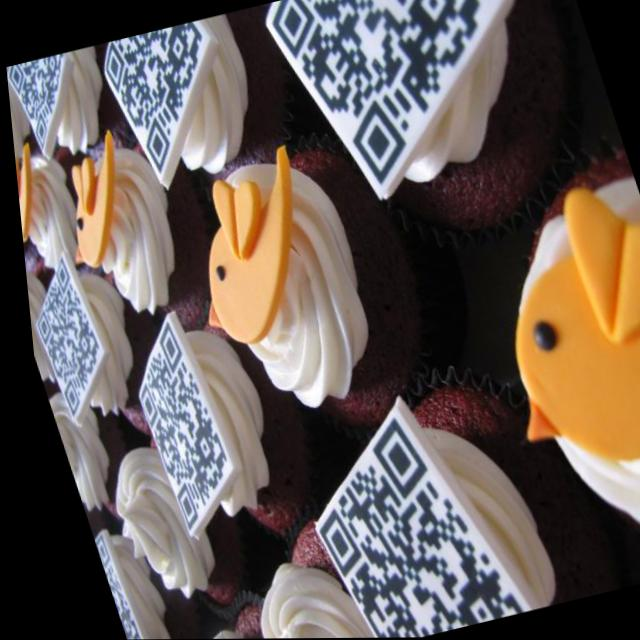qrcode: (279, 401, 515, 640), (265, 1, 545, 198), (111, 317, 238, 534), (95, 20, 241, 179), (20, 254, 111, 417), (5, 53, 88, 152), (82, 532, 132, 640)
